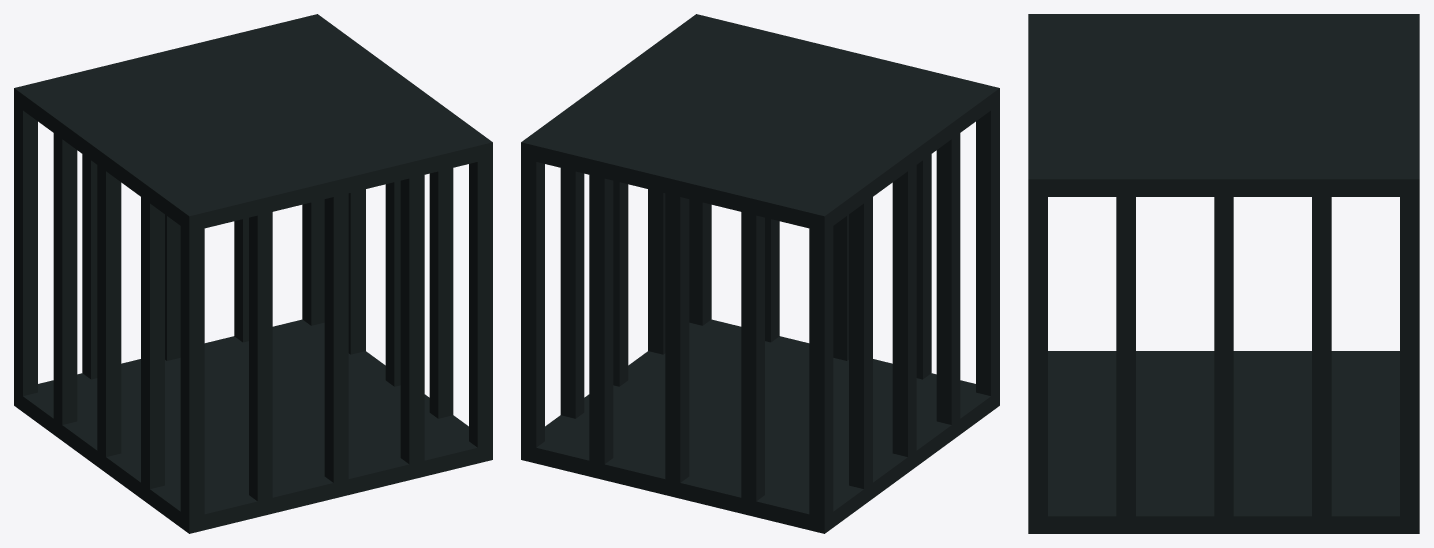
File: WeaponCase.fbx
The picture shows the model from 3 angles, left to right: view 1: azimuth 30°, elevation 25°; view 2: azimuth 150°, elevation 25°; view 3: azimuth 270°, elevation 25°; orthographic projection. The views are drawn at different scales.
Visible parts, largest first — view 1: Object; view 2: Object; view 3: Object.
Boxes of the visible parts, left/top/right/bottom form: Object: left=14, top=14, right=492, bottom=533; Object: left=521, top=14, right=999, bottom=533; Object: left=1028, top=14, right=1419, bottom=533.
Size of the model in its own units: 40 by 40 by 40.
